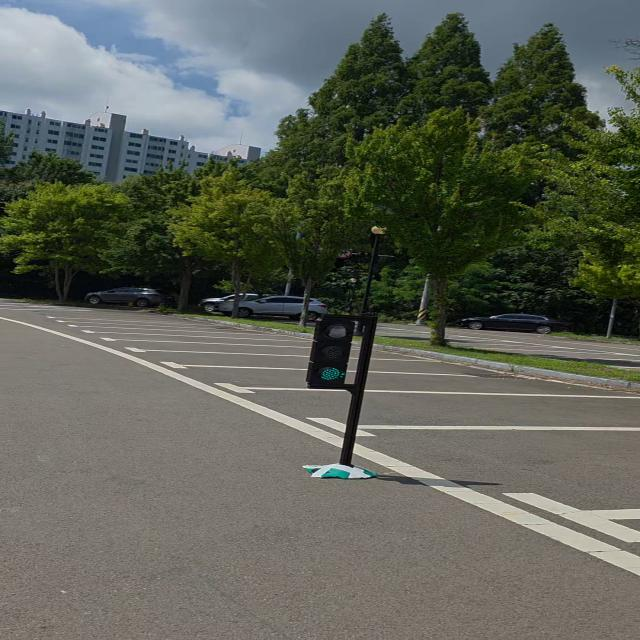green: (306, 316, 358, 389)
